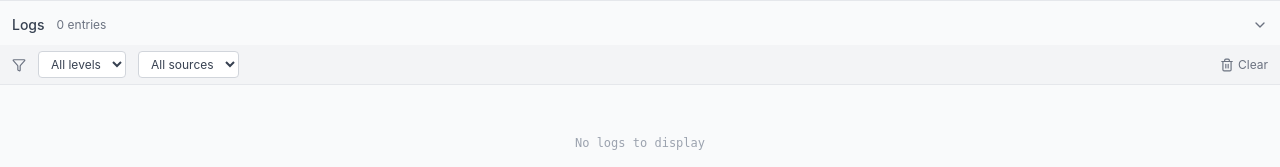
Test: LogPanel › Expand/Collapse › should collapse when header is clicked while expanded
Expected: the button "Clear" is shown, [1220,56,1268,72]
What coordinates should you click on to do the following:
click the text "Logs"
I would click on:
 (59, 25)
Its box is [12,15,106,35].
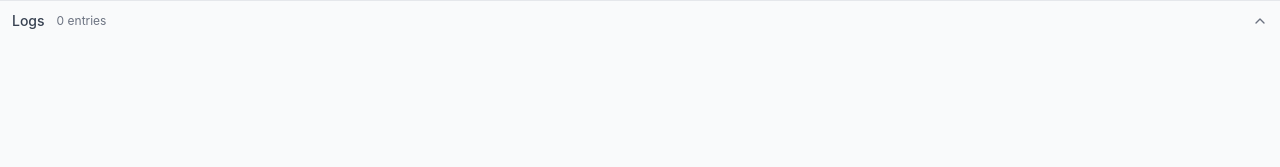
Expected: the button "Clear" is gone
